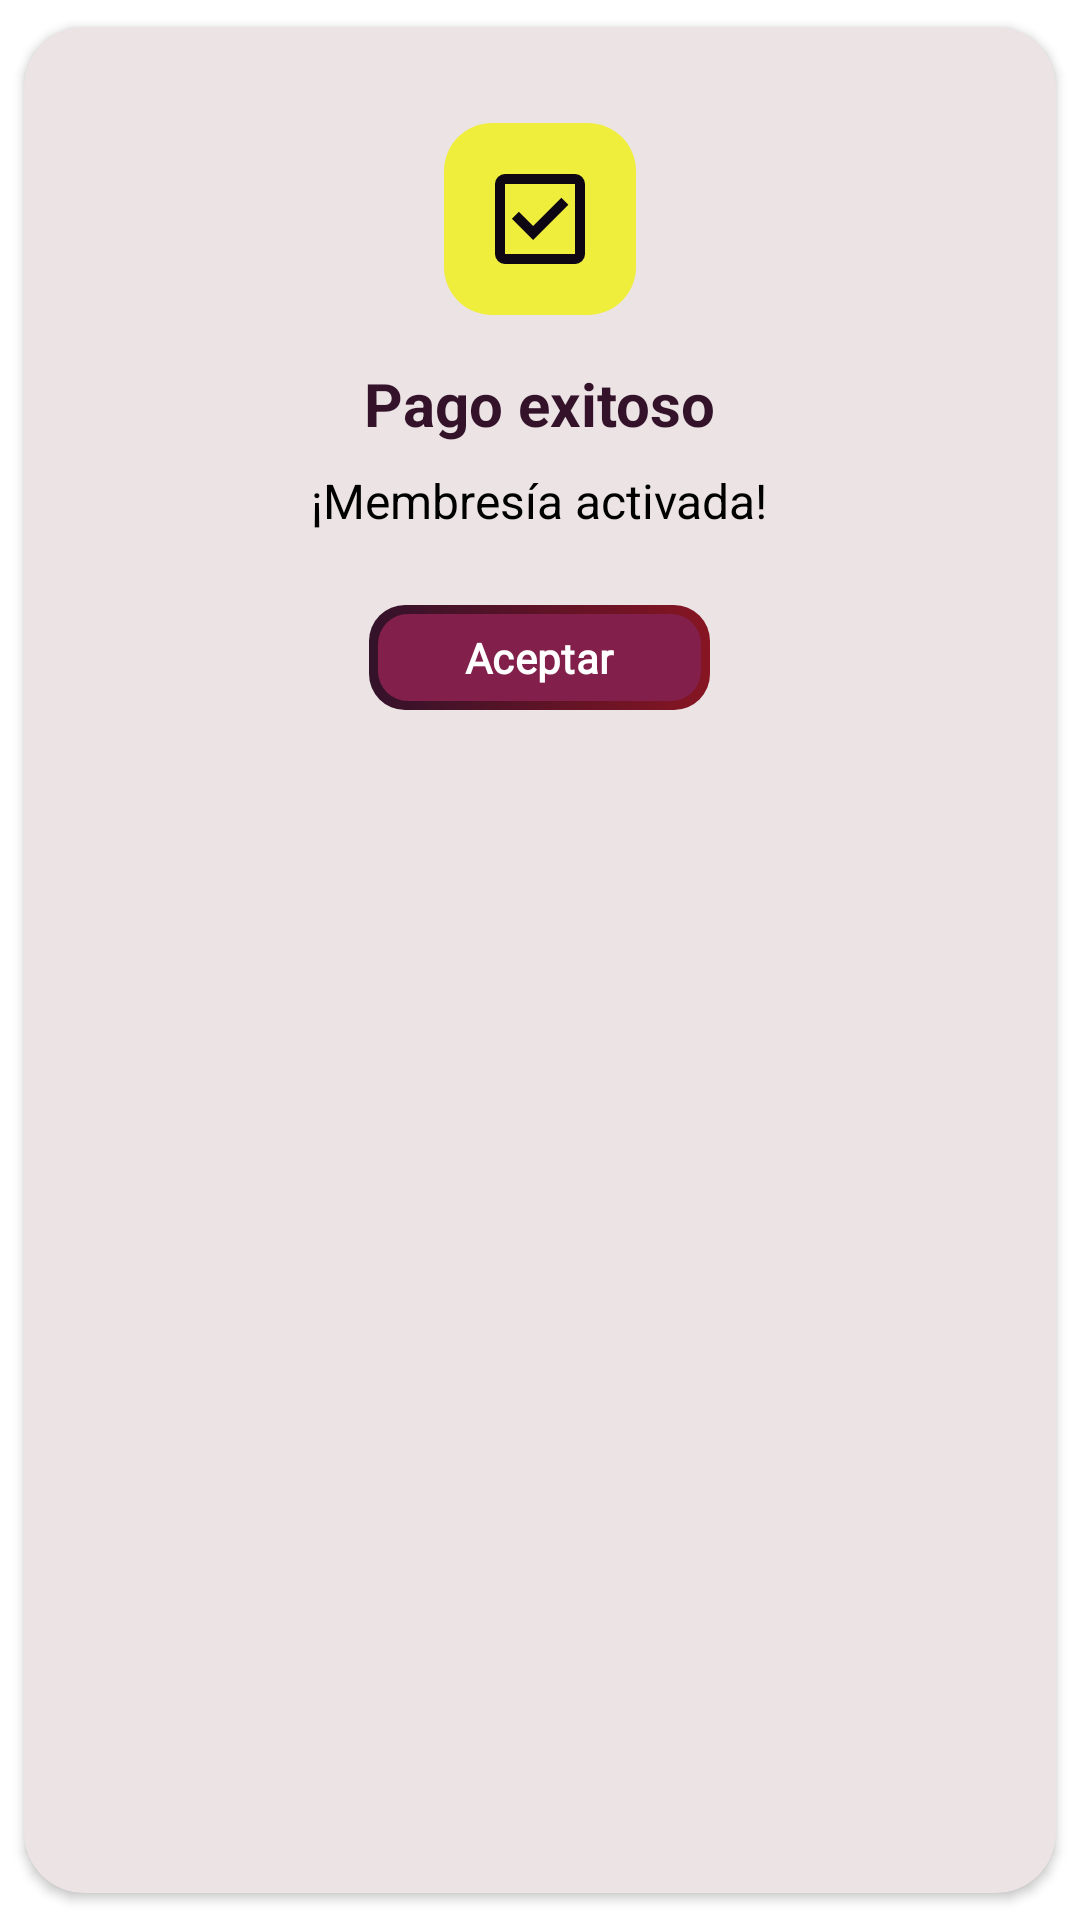

Icon bounding boxes for this 1080px x 1920px phone screenshot, format BBox(x1, y1, x2, y2):
check: BBox(444, 123, 636, 315)
